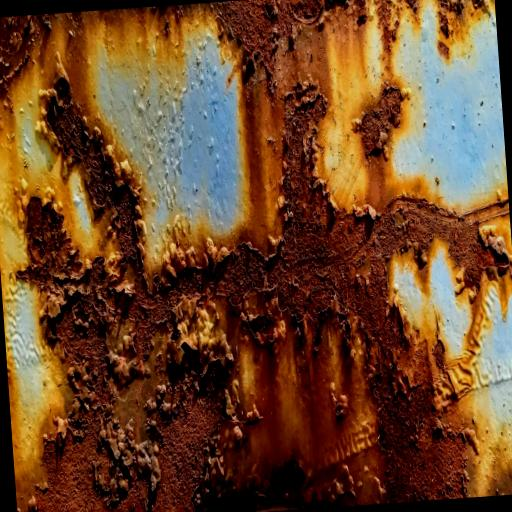segmentation: (210, 82, 482, 351), (17, 78, 179, 512), (66, 5, 246, 249), (218, 280, 378, 503), (370, 348, 466, 501), (152, 363, 224, 512), (219, 0, 333, 93), (441, 267, 512, 398), (46, 85, 114, 207), (352, 83, 406, 158), (27, 196, 78, 273), (468, 435, 512, 497), (0, 15, 31, 63), (375, 0, 402, 51), (458, 199, 509, 224), (179, 268, 202, 295), (438, 0, 466, 17), (440, 11, 449, 35), (325, 0, 349, 8), (406, 0, 417, 8), (355, 0, 365, 8)
